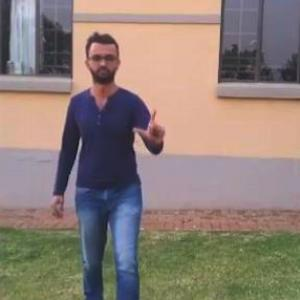land_hand: (130, 103, 169, 149)
